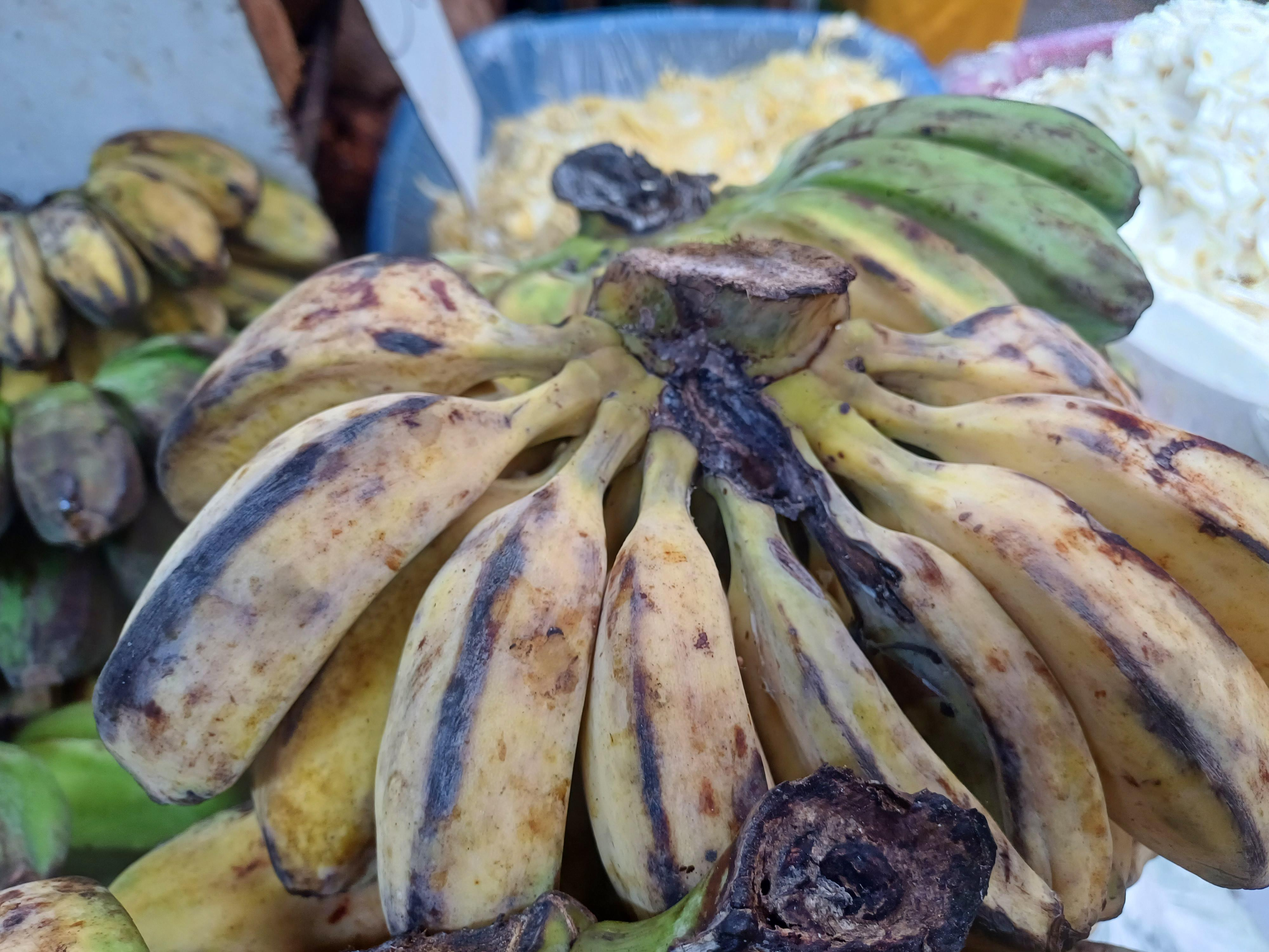ripe: (95, 258, 1269, 949)
underripe: (750, 95, 1153, 346), (0, 130, 338, 401), (0, 335, 226, 720)
